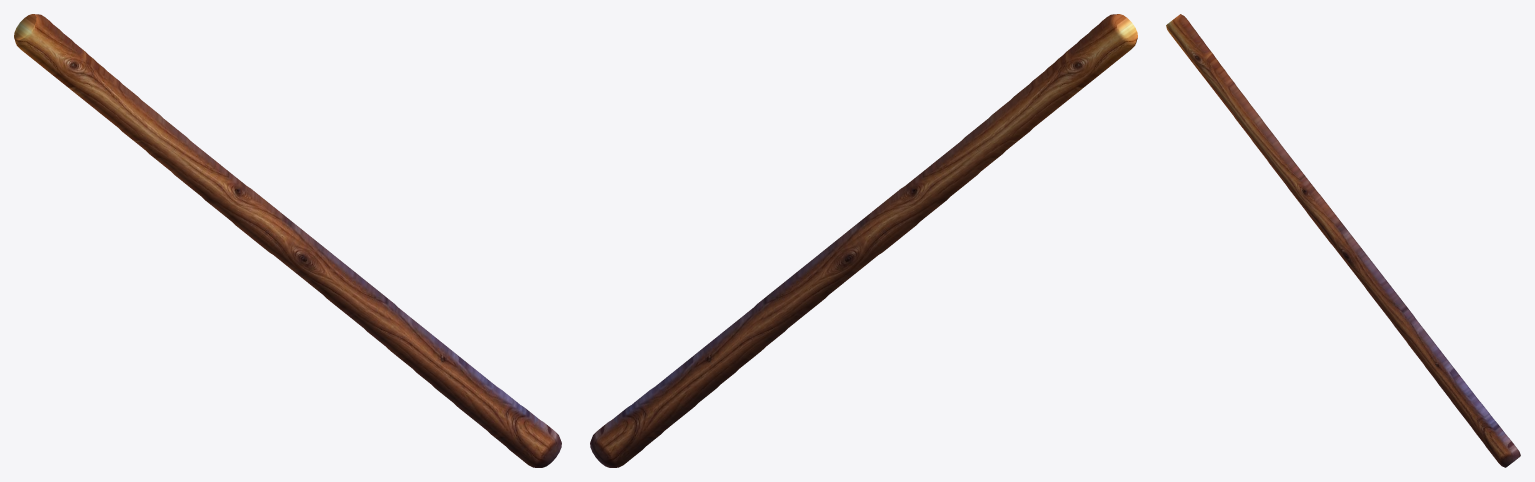
The model's file is v4-item-quarterstaff.glb.
3 renders of one model, left to right at view 1: azimuth 30°, elevation 25°; view 2: azimuth 150°, elevation 25°; view 3: azimuth 330°, elevation 25°, orthographic. The views are drawn at different scales.
Parts seen in each view (by area): view 1: v4-item-quarterstaff; view 2: v4-item-quarterstaff; view 3: v4-item-quarterstaff.
Boxes of the visible parts, x1=… form: v4-item-quarterstaff: x1=14, y1=14, x2=561, y2=467; v4-item-quarterstaff: x1=590, y1=14, x2=1137, y2=467; v4-item-quarterstaff: x1=1166, y1=14, x2=1520, y2=467.
Bounding box in the file's own units: 0.9945 × 1 × 0.036.
Materials: 1 (1 with a texture image).
